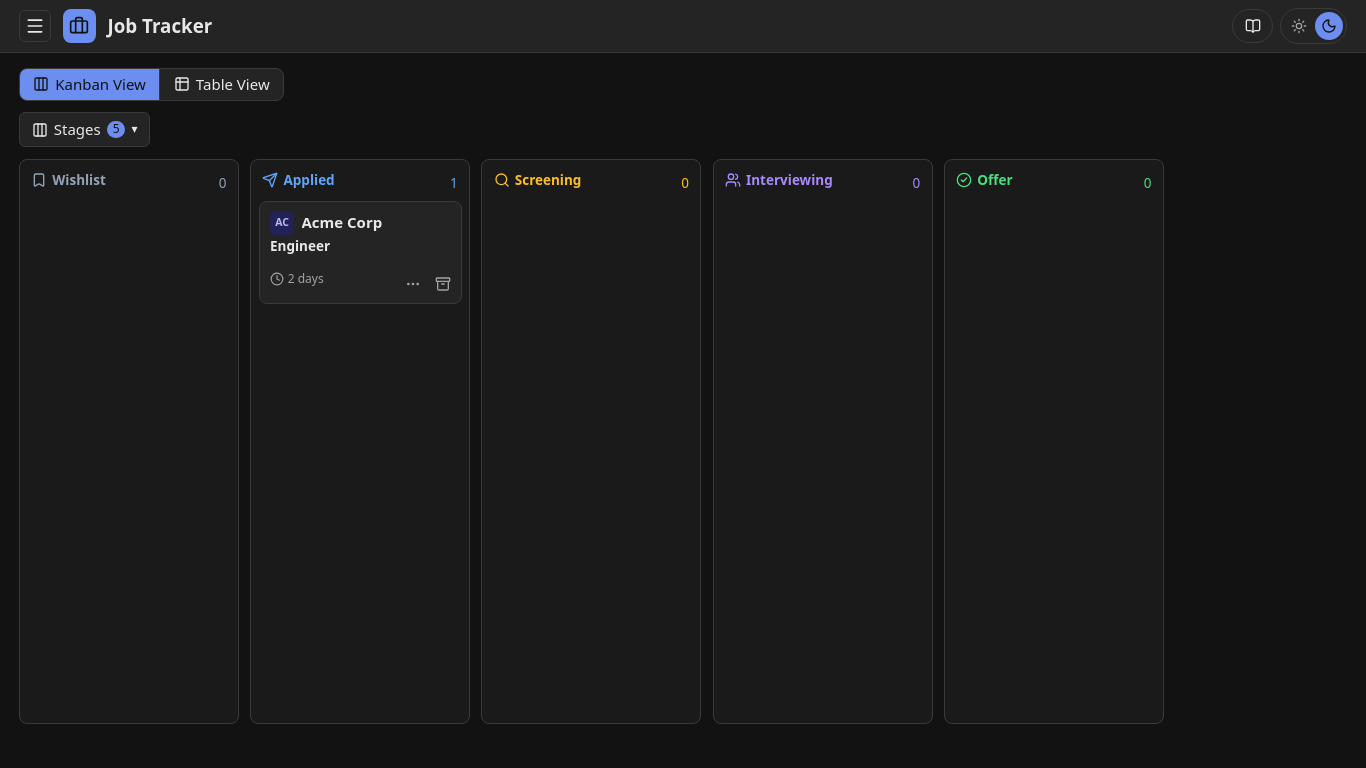
Scenario: adding from the narrow drawer (spec 015, AC-6) › closes the drawer and opens the form when chosen, and has no Add button in the page while the drawer is closed
Expected: the button "AC Acme Corp Engineer 2 days" is shown, [258,201,462,304]
Click the button named "Menu" at (35, 26), box [19,10,51,42]
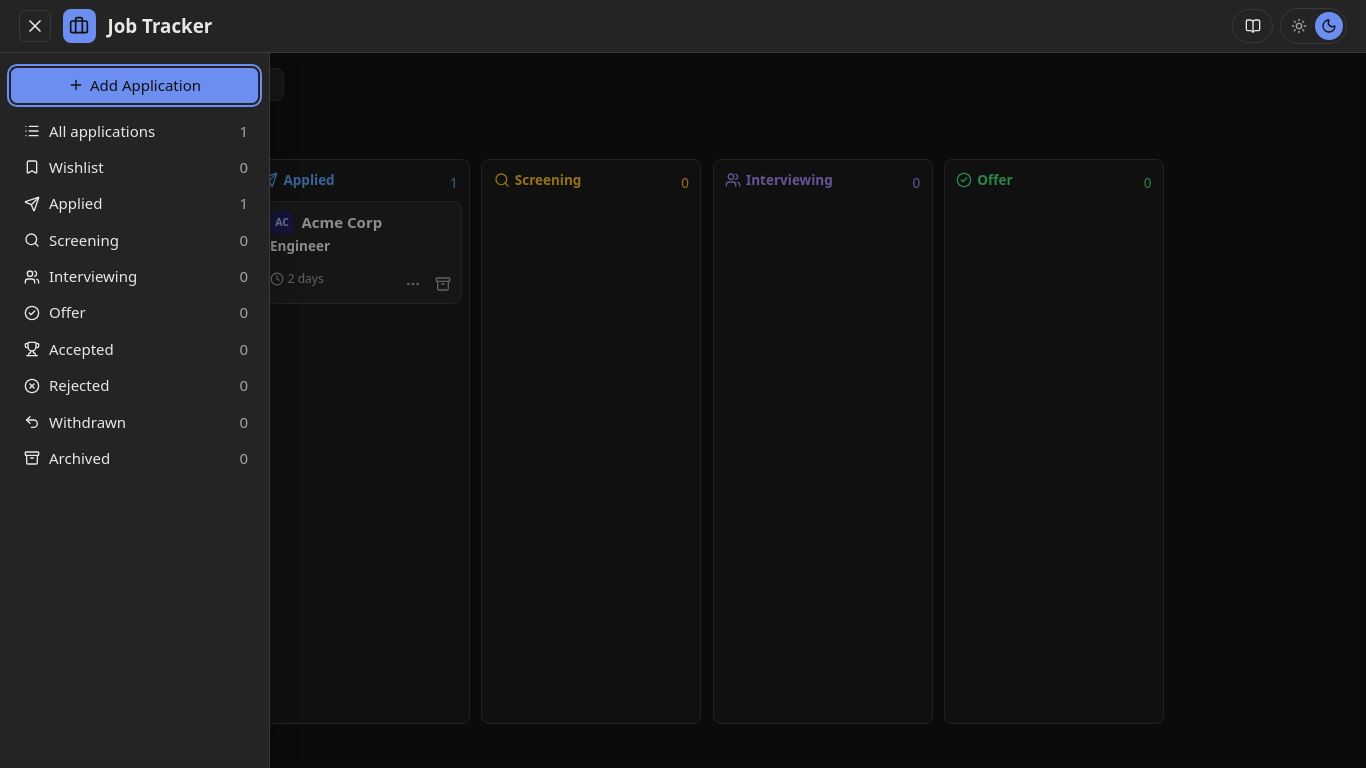
Click the button "Add Application" at (135, 85), box [11,68,258,102]
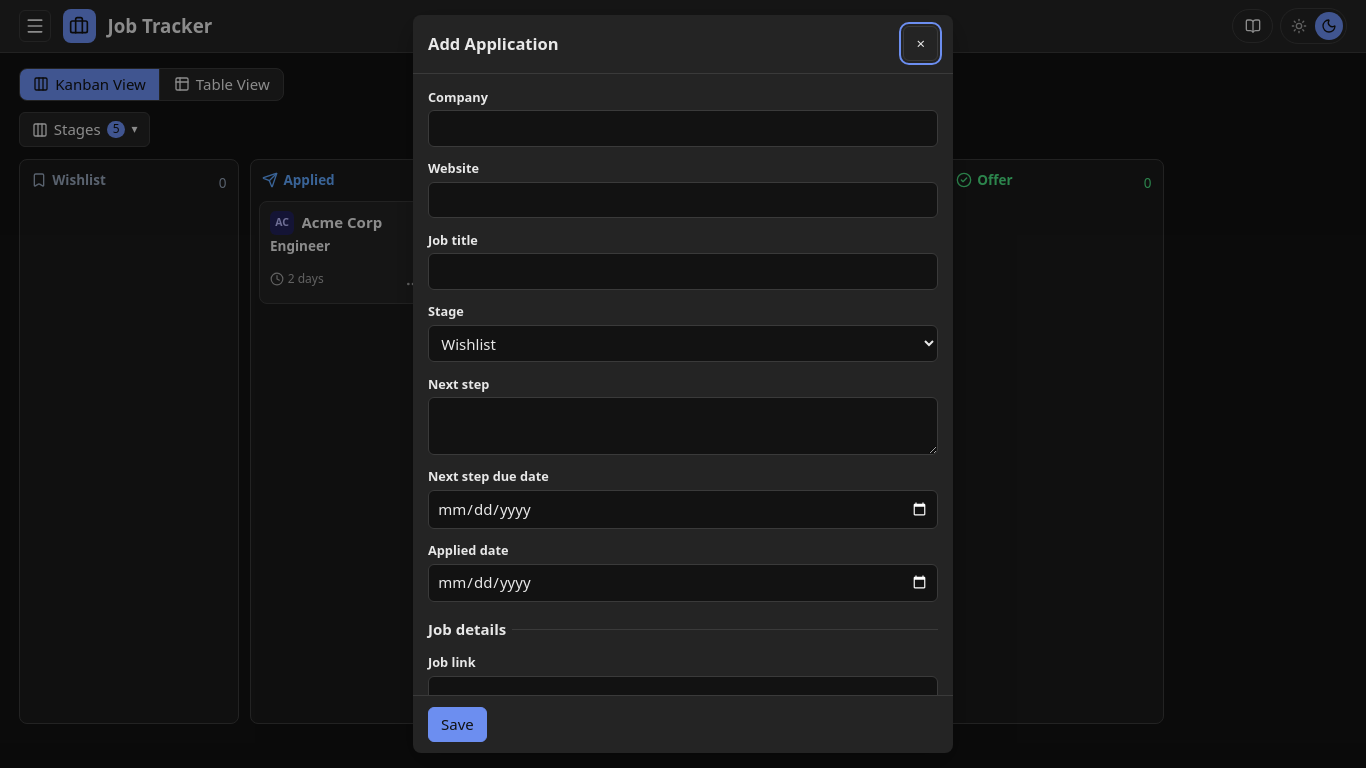
Now the button named "Menu" is collapsed, box [19,10,51,42]
